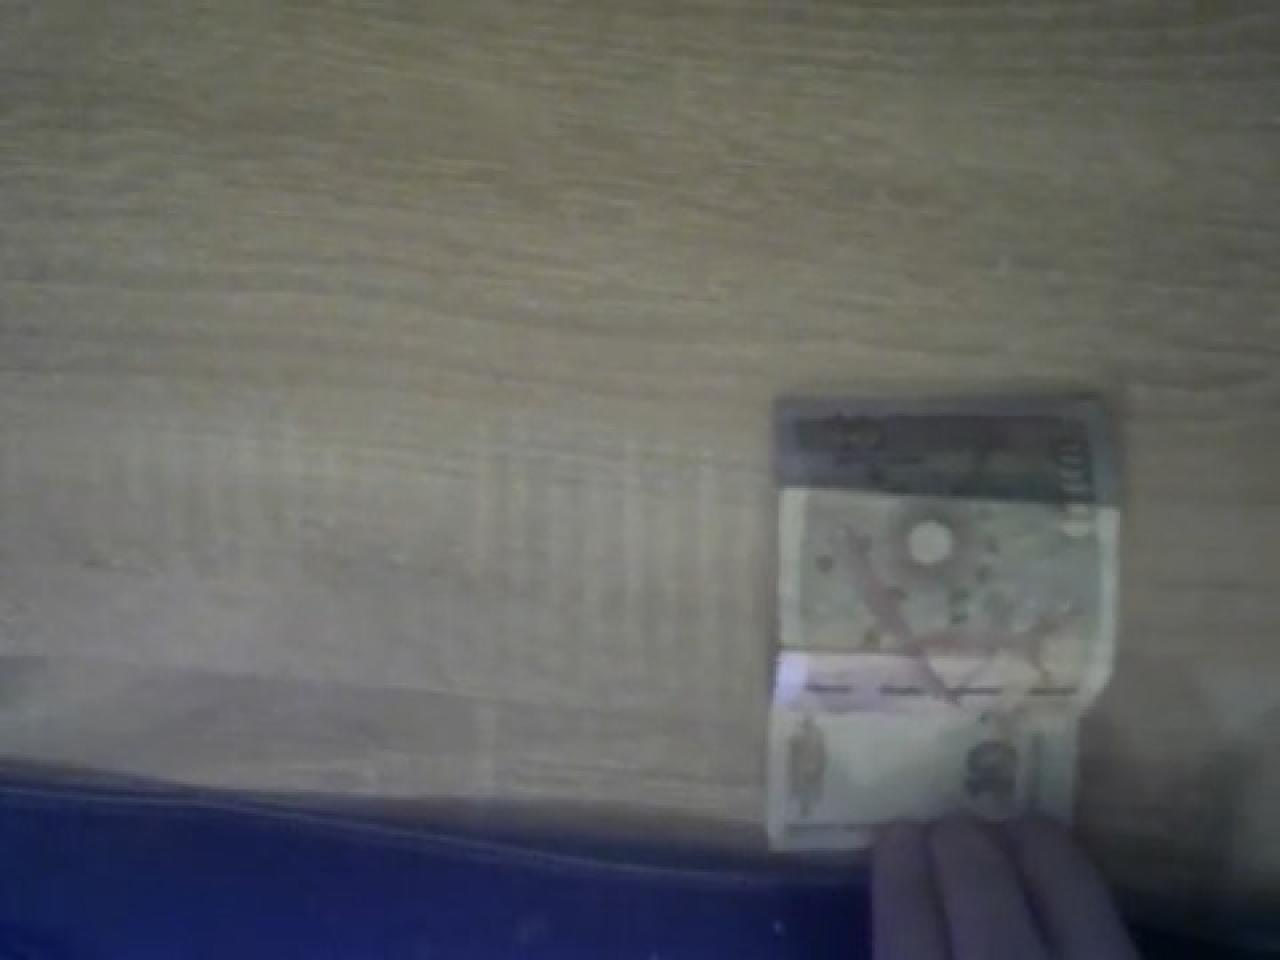10leva: (765, 394, 1126, 851)
